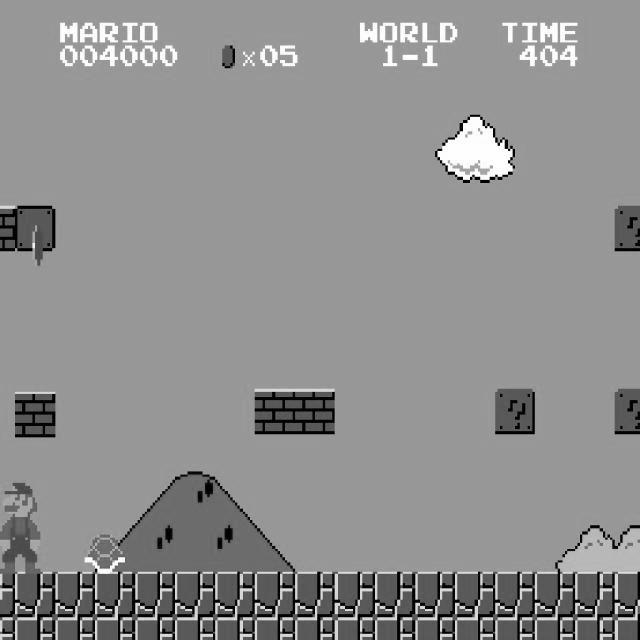0- big_mario: (0, 480, 40, 574)
1- brick_block: (254, 388, 296, 434), (294, 388, 336, 434), (0, 206, 15, 251)
13- mystery_block: (494, 388, 536, 434), (614, 205, 640, 251), (614, 388, 640, 434)
16- shell: (82, 528, 125, 574)
17- undestructible_block: (54, 572, 96, 618), (94, 572, 136, 618), (134, 572, 176, 618), (174, 572, 216, 618), (214, 572, 256, 618), (254, 572, 296, 618), (294, 572, 336, 618), (334, 572, 376, 618), (374, 572, 416, 618), (414, 572, 456, 618), (454, 572, 496, 618), (494, 572, 536, 618), (534, 572, 576, 618), (574, 572, 616, 618), (15, 572, 56, 618), (614, 571, 640, 617), (54, 617, 96, 640), (94, 617, 136, 640), (134, 617, 176, 640), (174, 617, 216, 640), (214, 617, 256, 640), (254, 617, 296, 640), (294, 617, 336, 640), (334, 617, 376, 640), (374, 617, 416, 640), (414, 617, 456, 640), (454, 617, 496, 640), (494, 617, 536, 640), (534, 617, 576, 640), (574, 617, 616, 640), (15, 617, 56, 640), (0, 572, 15, 618), (614, 617, 640, 639), (0, 617, 15, 640)
3- empty_block: (15, 206, 56, 251)
